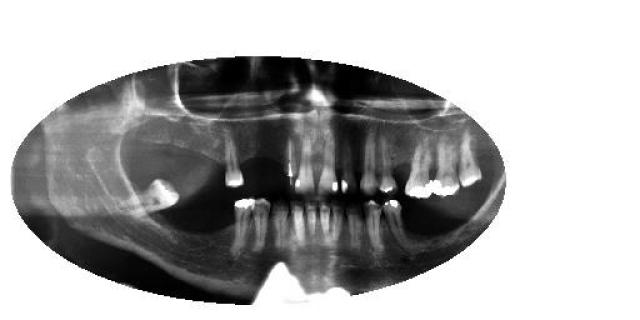Cavity: (379, 136, 399, 199), (282, 138, 298, 190)
Fillings: (405, 141, 434, 200), (434, 138, 458, 198), (458, 126, 482, 186), (316, 136, 339, 198), (295, 135, 315, 199), (233, 196, 255, 254), (379, 136, 399, 199), (382, 199, 407, 249), (340, 139, 358, 196)
Restorations: (120, 178, 180, 218)
